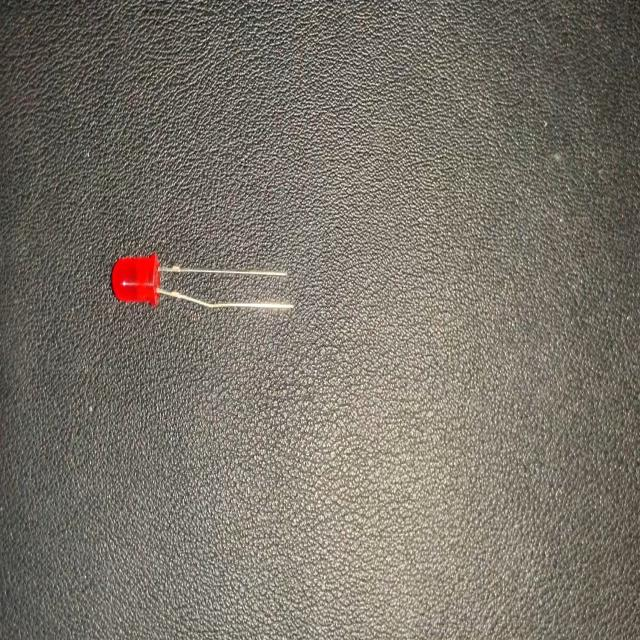LED: (109, 249, 297, 326)
